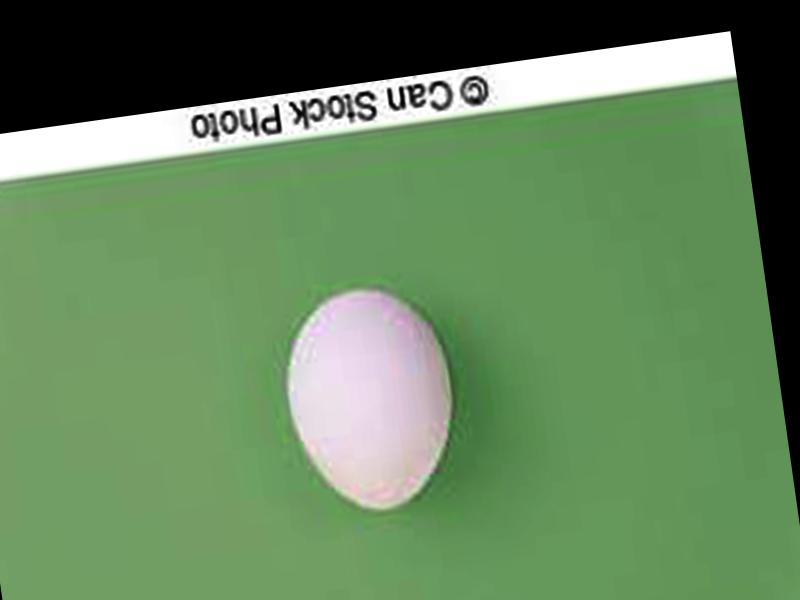Eggs: (277, 280, 465, 519)
